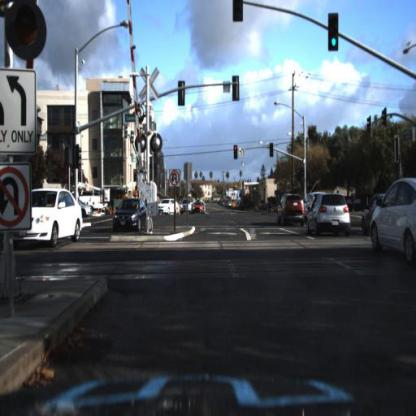car: (4, 188, 83, 254), (367, 179, 415, 266), (306, 190, 353, 240), (111, 192, 154, 234), (275, 191, 305, 229), (302, 191, 318, 229), (158, 193, 181, 217), (192, 200, 206, 216)
trafficLight: (8, 4, 53, 69), (329, 13, 339, 51), (269, 141, 276, 158), (234, 141, 239, 162)
trafficLight-Green: (300, 163, 306, 183)
